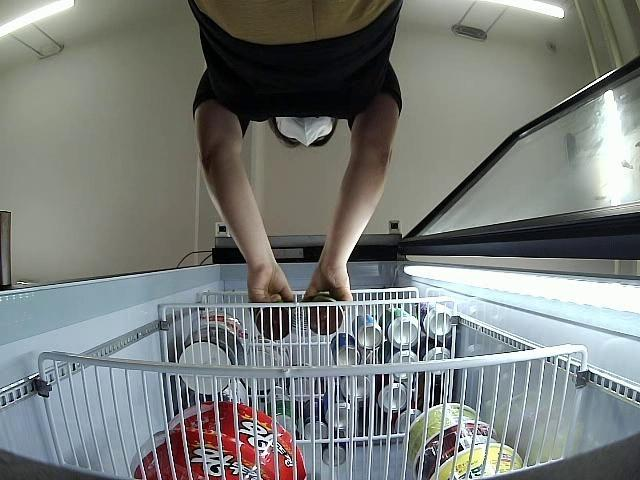19_17cha: (305, 294, 343, 336), (256, 305, 293, 339)
